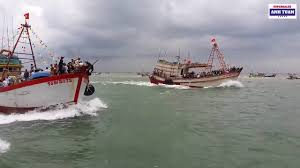tau_dansu: (4, 25, 86, 113), (149, 40, 250, 87), (249, 66, 279, 80)
